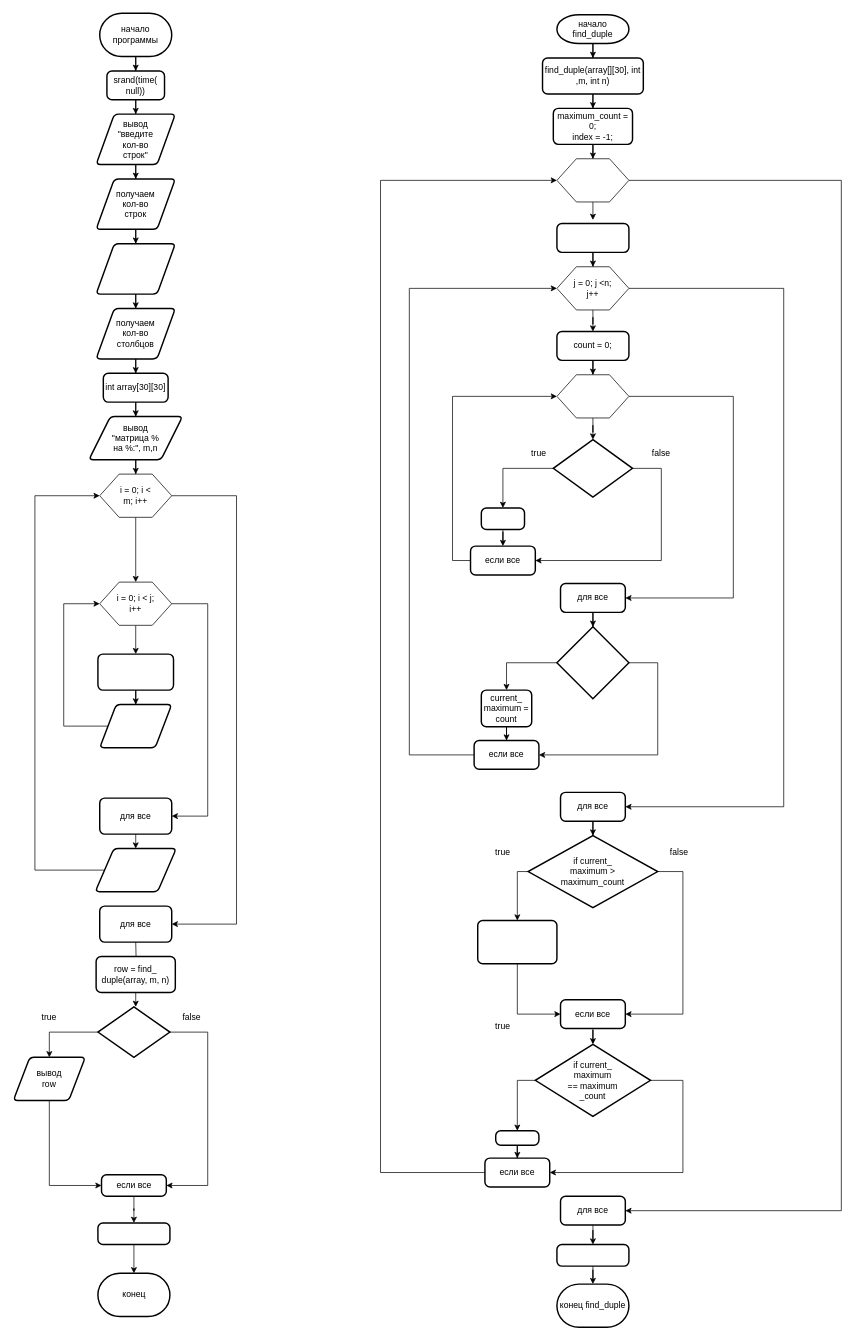
Some shapes in this 860 by 1340 pixel diagram are drawn without their labels. The shapes that lost their labels are listed below. From the top down, each one's box as (x1, y1, x2, y2) in pixels, then its label:
(556, 158, 629, 202): i = 0; i <m; i++
(556, 222, 629, 253): current_maximum = 0
(95, 243, 176, 294): вывод "введите кол-во столбцов"
(556, 374, 629, 418): f = 0; f <n; f++
(552, 438, 633, 498): if array[i][j] == array[i][f]
(480, 507, 525, 530): count++
(97, 653, 174, 690): array[i][j] = rand() % 30 + 1
(556, 626, 629, 699): if count > current_ maximum
(99, 703, 172, 748): вывод array[i][j]
(94, 847, 177, 892): переход на новую строку \n
(477, 919, 557, 964): maximum_ count = current_ maximum; index = i;
(97, 1006, 170, 1058): if row != -1
(495, 1130, 539, 1146): index = i;
(97, 1222, 170, 1245): return 0;
(556, 1243, 629, 1266): return index;
